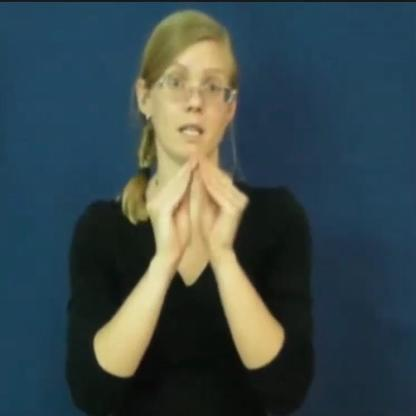Fix: (147, 150, 262, 278)
